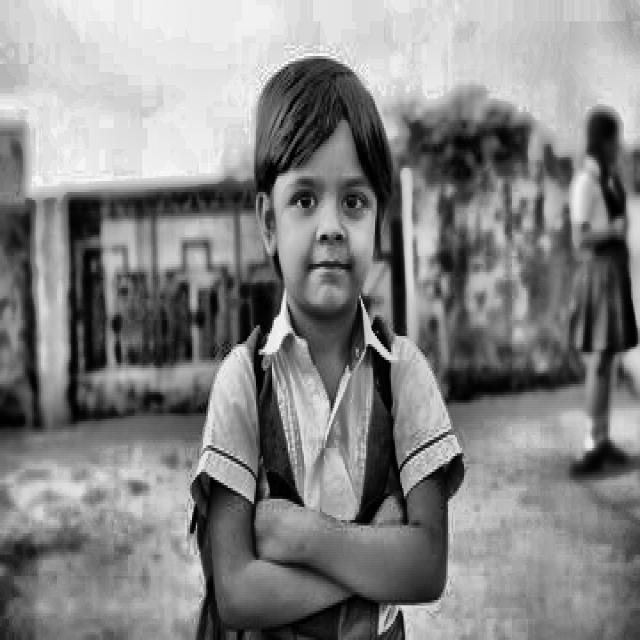Human: (180, 23, 462, 640)
